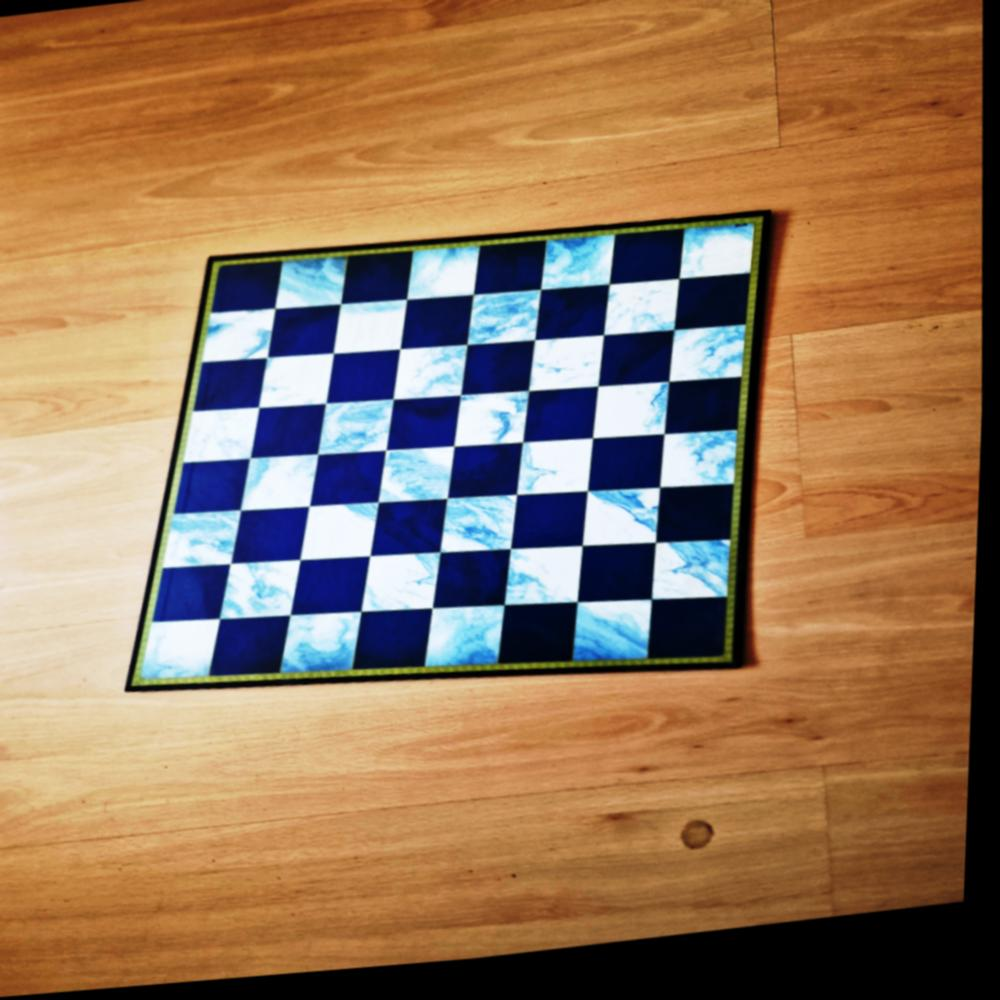chessfield: (507, 551, 590, 622), (574, 605, 658, 675), (288, 615, 372, 683), (151, 620, 232, 688), (659, 547, 737, 616), (371, 557, 450, 625), (656, 605, 736, 672), (580, 496, 660, 563), (233, 559, 315, 624), (432, 612, 511, 678), (365, 614, 443, 680), (586, 554, 664, 620), (507, 610, 586, 675), (520, 445, 599, 509), (306, 507, 385, 571), (445, 501, 522, 566), (440, 556, 519, 619), (608, 289, 687, 352), (386, 455, 464, 518), (300, 558, 378, 621), (663, 443, 741, 506), (220, 619, 298, 682), (378, 504, 457, 566), (545, 242, 624, 304), (600, 390, 677, 453), (675, 334, 753, 396), (458, 396, 535, 458), (682, 234, 759, 296), (595, 442, 673, 503), (244, 509, 322, 570), (535, 342, 613, 403), (250, 462, 329, 522), (266, 356, 345, 416), (517, 499, 593, 561), (164, 568, 240, 630), (173, 514, 248, 576), (528, 394, 605, 454), (320, 404, 397, 464), (664, 494, 739, 555), (192, 411, 267, 471), (672, 387, 748, 446), (606, 340, 683, 398), (399, 354, 473, 414), (454, 449, 529, 508), (256, 407, 332, 465), (317, 459, 391, 518), (395, 401, 470, 459), (680, 284, 756, 341), (209, 311, 285, 368), (477, 296, 551, 354), (186, 459, 260, 517), (542, 293, 617, 350), (466, 348, 542, 404), (410, 255, 483, 313), (614, 242, 688, 299), (329, 358, 403, 415), (337, 304, 409, 362), (278, 263, 350, 320), (480, 251, 552, 307), (203, 362, 277, 416), (216, 262, 287, 318), (348, 260, 420, 315), (406, 302, 479, 356), (276, 309, 348, 363)
